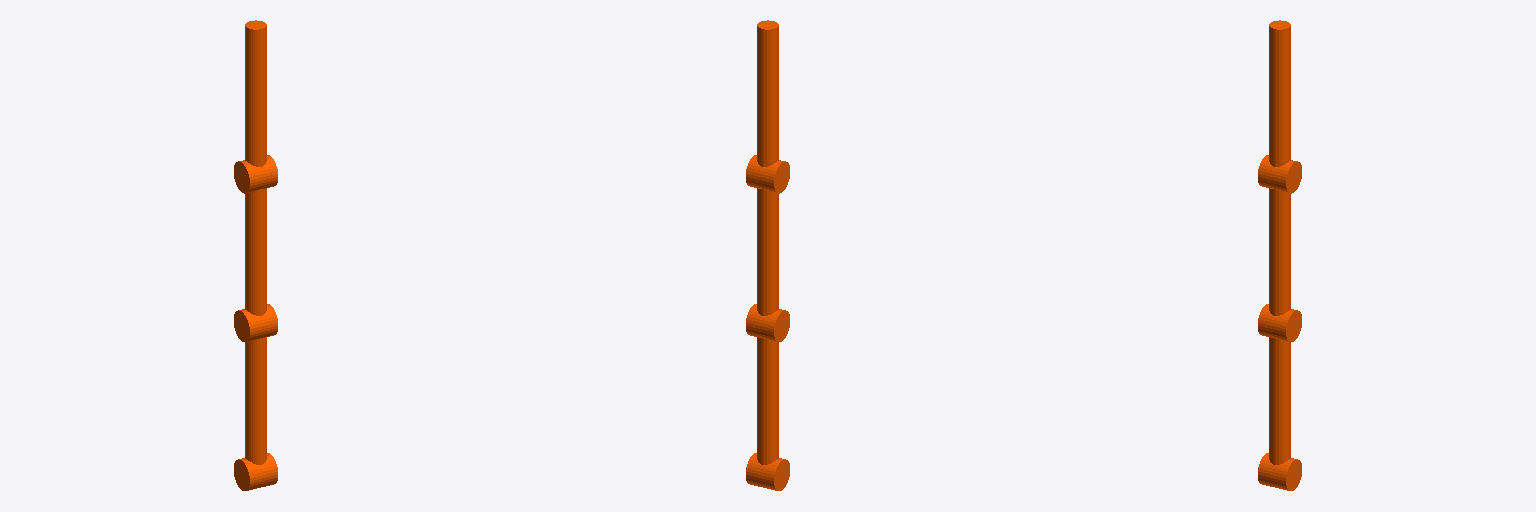
URDF robot description (Chaser):
<?xml version="1.0" ?>
<robot name="Chaser">
  <material name="Grey">
    <color rgba="0.2 0.2 0.2 1.0"/>
  </material>
  <material name="Orange">
    <color rgba="1.0 0.423529411765 0.0392156862745 1.0"/>
  </material>
  <material name="Blue">
  <color rgba="0.5 0.7 1.0 1.0"/>      
  </material>
  <material name="Red">
    <color rgba="1 0 0 1.0"/>      
  </material>

  <link name='base_link'/>

  <joint name="Joint_1" type="continuous">
    <parent link="base_link"/>
    <child link="Link_1"/>
    <origin rpy="0 0 0" xyz="0 0 0.0"/>
    <axis xyz="1 0 0"/>
  </joint>

  <link name="Link_1">
    <inertial>
      <origin rpy="0 0 0" xyz="0 0 0.0"/>
      <mass value="10"/>
      <inertia ixx="0.1" ixy="0" ixz="0" iyy="0.1" iyz="0" izz="0.1"/>
    </inertial>
    <visual>
      <origin rpy="0 0 0" xyz="0 0 0.375"/>
      <geometry>
        <cylinder radius="0.05" length="0.75"/>
      </geometry>
      <material name="Orange"/>
    </visual>

    <collision>
      <origin rpy="0 0 0" xyz="0 0 0.375"/>
      <geometry>
        <cylinder radius="0.05" length="0.75"/>
      </geometry>
    </collision>

    <visual>
      <origin rpy="0 1.5708 0" xyz="0 0 0"/>
      <geometry>
        <cylinder radius="0.075" length="0.15"/>
      </geometry>
      <material name="Orange"/>
    </visual>

    <collision>
      <origin rpy="0 1.5708 0" xyz="0 0 0"/>
      <geometry>
        <cylinder radius="0.075" length="0.15"/>
      </geometry>
    </collision>
  </link>

  <joint name="Joint_2" type="continuous">
    <parent link="Link_1"/>
    <child link="Link_2"/>
    <origin rpy="0 0 0" xyz="0 0 0.75"/>
    <axis xyz="1 0 0"/>
  </joint>

  <link name="Link_2">
    <inertial>
      <origin rpy="0 0 0" xyz="0 0 0.375"/>
      <mass value="10"/>
      <inertia ixx="0.1" ixy="0" ixz="0" iyy="0.1" iyz="0" izz="0.1"/>
    </inertial>

    <visual>
      <origin rpy="0 0 0" xyz="0 0 0.375"/>
      <geometry>
        <cylinder radius="0.05" length="0.75"/>
      </geometry>
      <material name="Orange"/>
    </visual>

    <collision>
      <origin rpy="0 0 0" xyz="0 0 0.375"/>
      <geometry>
        <cylinder radius="0.05" length="0.75"/>
      </geometry>
    </collision>

    <visual>
      <origin rpy="0 1.5708 0" xyz="0 0 0"/>
      <geometry>
        <cylinder radius="0.075" length="0.15"/>
      </geometry>
      <material name="Orange"/>
    </visual>

    <collision>
      <origin rpy="0 1.5708 0" xyz="0 0 0"/>
      <geometry>
        <cylinder radius="0.075" length="0.15"/>
      </geometry>
    </collision>
  </link>

  <joint name="Joint_3" type="continuous">
    <parent link="Link_2"/>
    <child link="Link_3"/>
    <origin rpy="0 0 0" xyz="0 0 0.75"/>
    <axis xyz="1 0 0"/>
  </joint>

  <link name="Link_3">
    <inertial>
      <origin rpy="0 0 0" xyz="0 0 0.375"/>
      <mass value="10"/>
      <inertia ixx="0.1" ixy="0" ixz="0" iyy="0.1" iyz="0" izz="0.1"/>
    </inertial>

    <visual>
      <origin rpy="0 0 0" xyz="0 0 0.375"/>
      <geometry>
        <cylinder radius="0.05" length="0.75"/>
      </geometry>
      <material name="Orange"/>
    </visual>

    <collision>
      <origin rpy="0 0 0" xyz="0 0 0.375"/>
      <geometry>
        <cylinder radius="0.05" length="0.75"/>
      </geometry>
    </collision>

    <visual>
      <origin rpy="0 1.5708 0" xyz="0 0 0"/>
      <geometry>
        <cylinder radius="0.075" length="0.15"/>
      </geometry>
      <material name="Orange"/>
    </visual>

    <collision>
      <origin rpy="0 1.5708 0" xyz="0 0 0"/>
      <geometry>
        <cylinder radius="0.075" length="0.15"/>
      </geometry>
    </collision>
  </link>
</robot>

--- Render facts (derived) ---
3 views of the same robot in one strip: view 1: azimuth 30°, elevation 25°; view 2: azimuth 150°, elevation 25°; view 3: azimuth 330°, elevation 25° (orthographic).
Robot: Chaser — 4 links, 3 joints (3 continuous); root link base_link; default pose: every joint at zero.
Links seen in each view (by area): view 1: Link_3, Link_1, Link_2; view 2: Link_3, Link_1, Link_2; view 3: Link_3, Link_1, Link_2.
Boxes of the visible links, <box> form: Link_3: <box>234,20,277,193</box>; Link_1: <box>234,337,277,490</box>; Link_2: <box>234,188,277,341</box>; Link_3: <box>746,20,789,193</box>; Link_1: <box>746,337,789,490</box>; Link_2: <box>746,188,789,341</box>; Link_3: <box>1258,20,1301,193</box>; Link_1: <box>1258,337,1301,490</box>; Link_2: <box>1258,188,1301,341</box>.
Size in the robot's own frame: 0.15 by 0.15 by 2.33 metres.
Geometry: primitives only (box / cylinder / sphere), no mesh files.